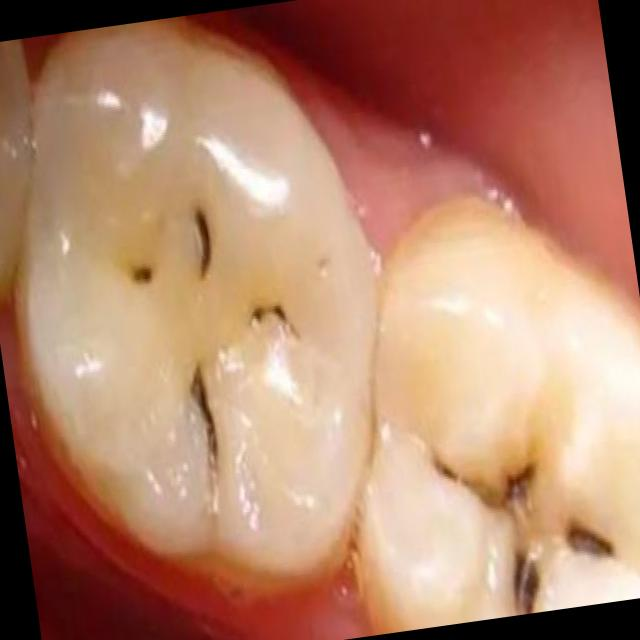Caries: (191, 365, 219, 456), (568, 524, 613, 558), (503, 465, 534, 501), (195, 211, 211, 276), (522, 563, 539, 612), (514, 555, 525, 605), (134, 268, 153, 283), (442, 466, 458, 480), (274, 306, 286, 320), (252, 306, 262, 321)
Tooth: (18, 22, 379, 578), (361, 193, 640, 633)
